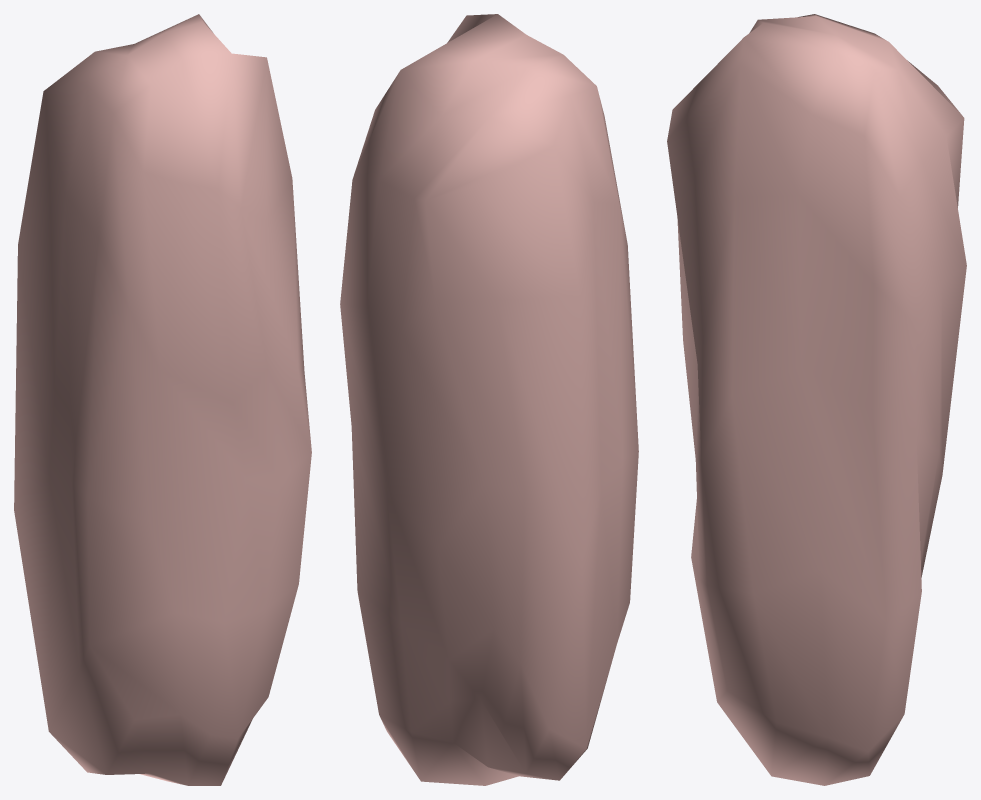
Rendered from Rock1.fbx.
The picture shows the model from 3 angles, left to right: view 1: azimuth 30°, elevation 25°; view 2: azimuth 150°, elevation 25°; view 3: azimuth 270°, elevation 25°; orthographic projection.
Parts seen in each view (by area): view 1: Cube; view 2: Cube; view 3: Cube.
Boxes of the visible parts, x1=… form: Cube: x1=14, y1=14, x2=311, y2=785; Cube: x1=340, y1=14, x2=638, y2=785; Cube: x1=667, y1=14, x2=966, y2=785.
Size of the model in its own units: 318 by 994 by 363.
